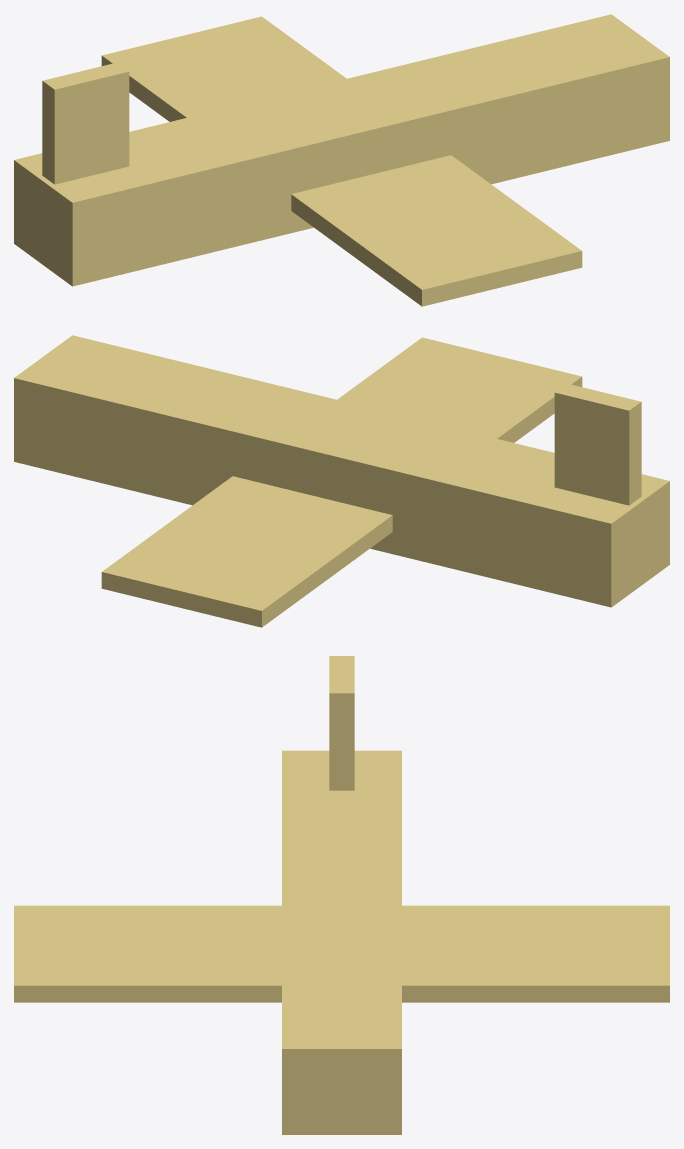
File: gulfstream_g700_exec_jet.glb
3 renders of one model, top to bottom at view 1: azimuth 30°, elevation 25°; view 2: azimuth 150°, elevation 25°; view 3: azimuth 270°, elevation 25°, orthographic. The views are drawn at different scales.
Visible parts, largest first — view 1: GTEX_Asset_Root; view 2: GTEX_Asset_Root; view 3: GTEX_Asset_Root.
Part boxes in pixels (left/top/right/bottom): GTEX_Asset_Root: left=14, top=14, right=669, bottom=306; GTEX_Asset_Root: left=14, top=335, right=669, bottom=627; GTEX_Asset_Root: left=14, top=656, right=669, bottom=1134.
Size of the model in its own units: 5.6 by 1.6 by 5.2.
